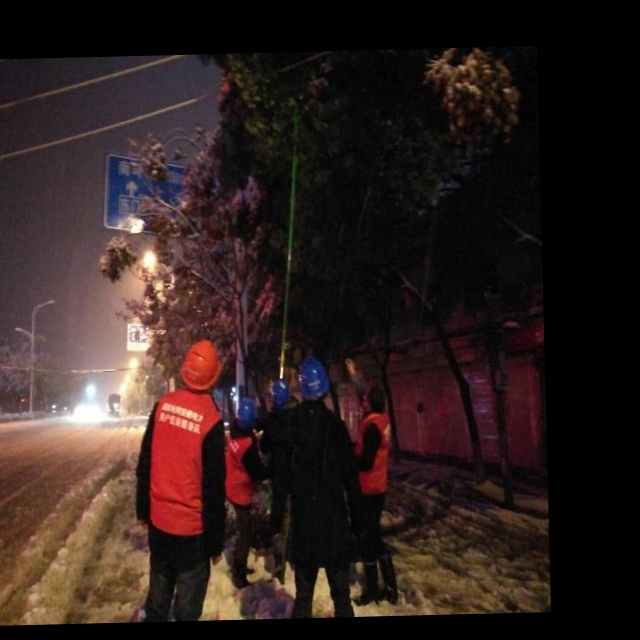Con_Casco: (182, 340, 221, 390)
